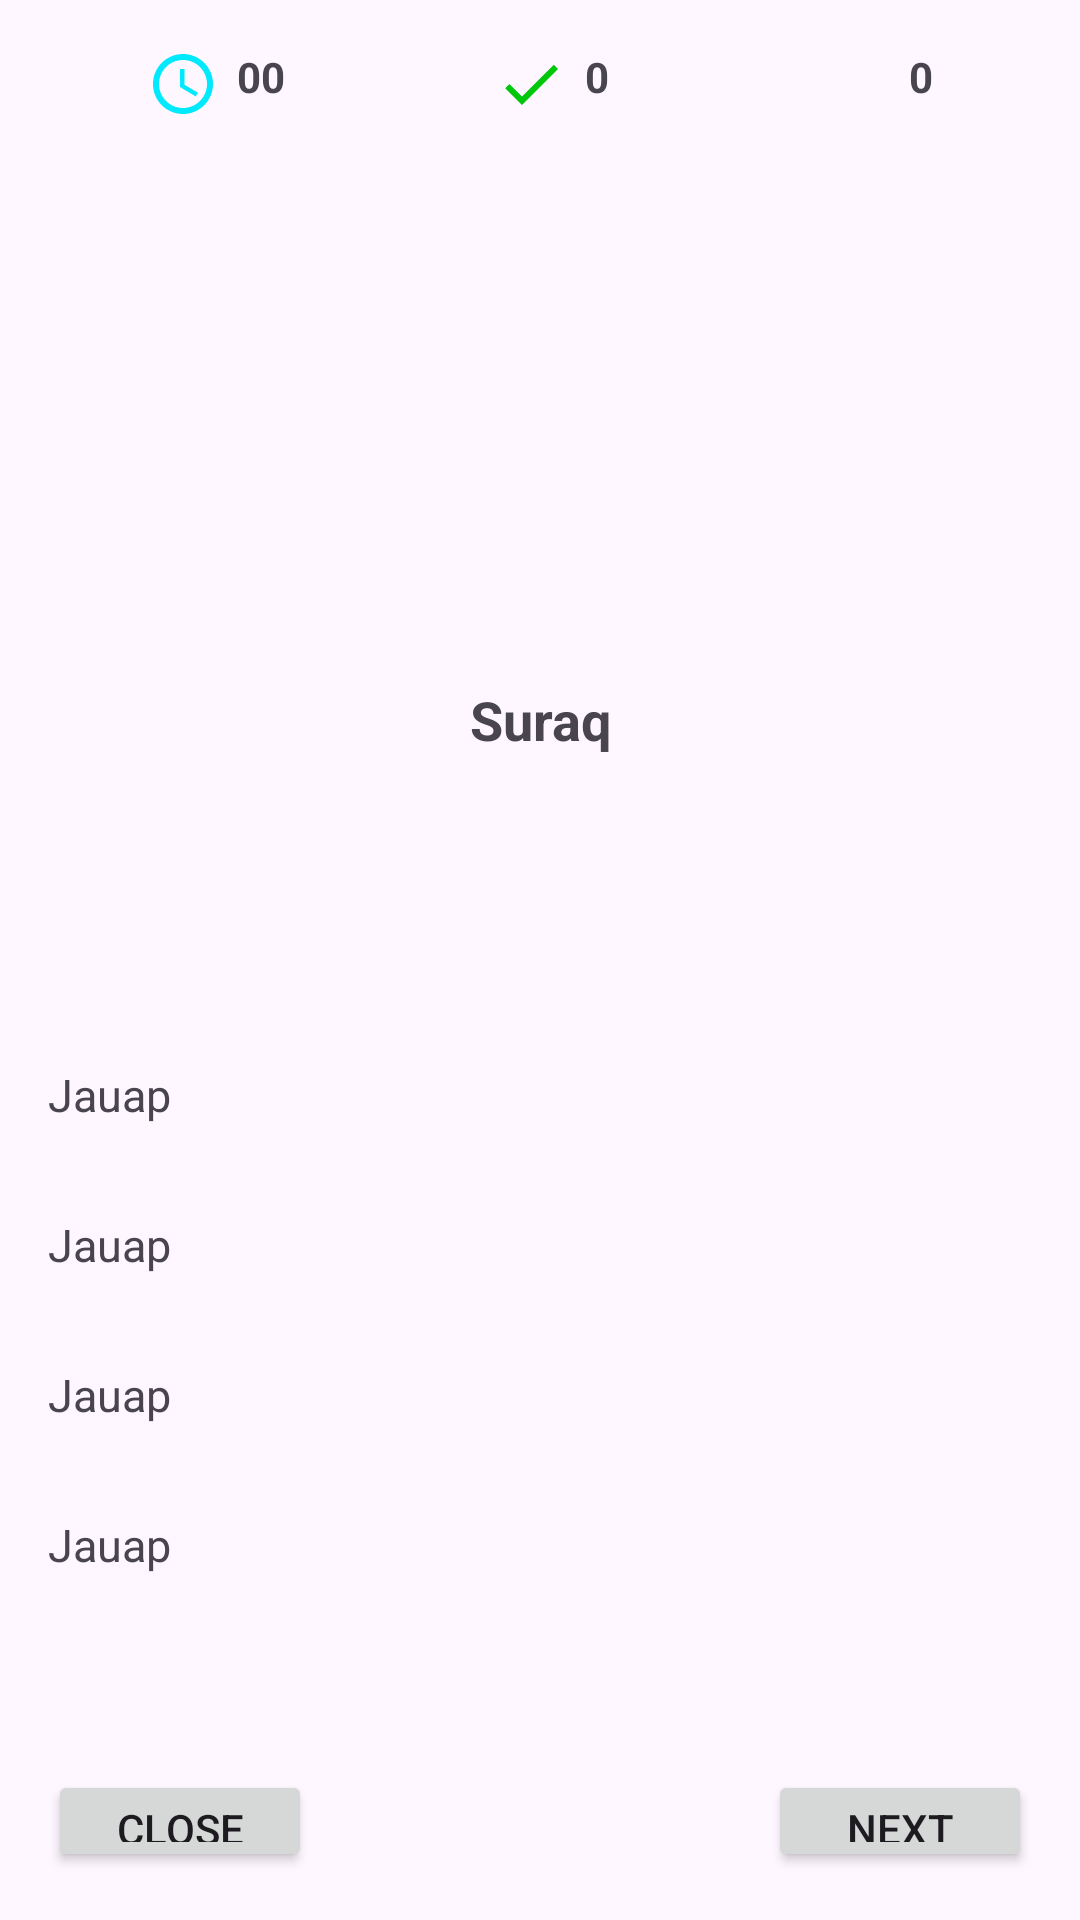

Screen size 1080px×1920px. Icon name, then its center in pixels as (x,y):
correct: (531,85)
time: (183,84)
